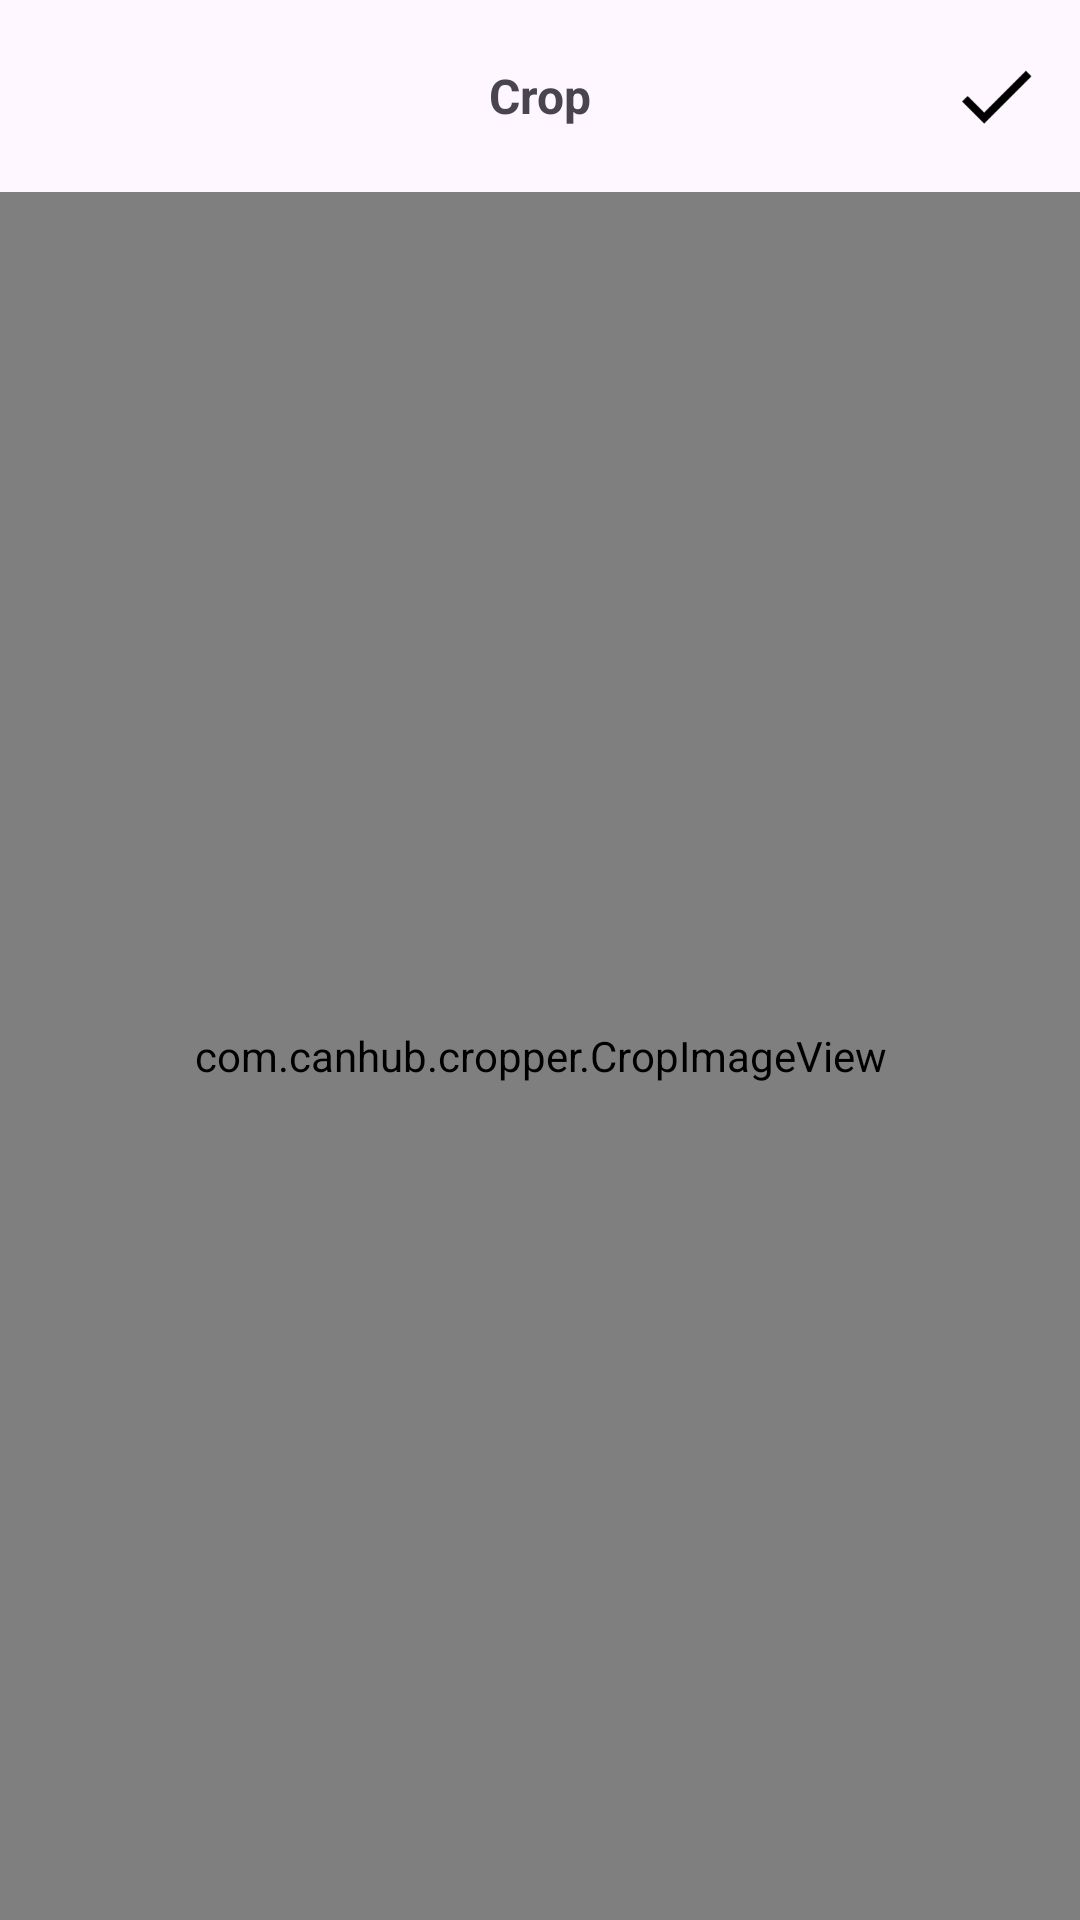

Point at icon controls on the screen. Image size 1080x1920, points as (x,y).
done: (997,97)
